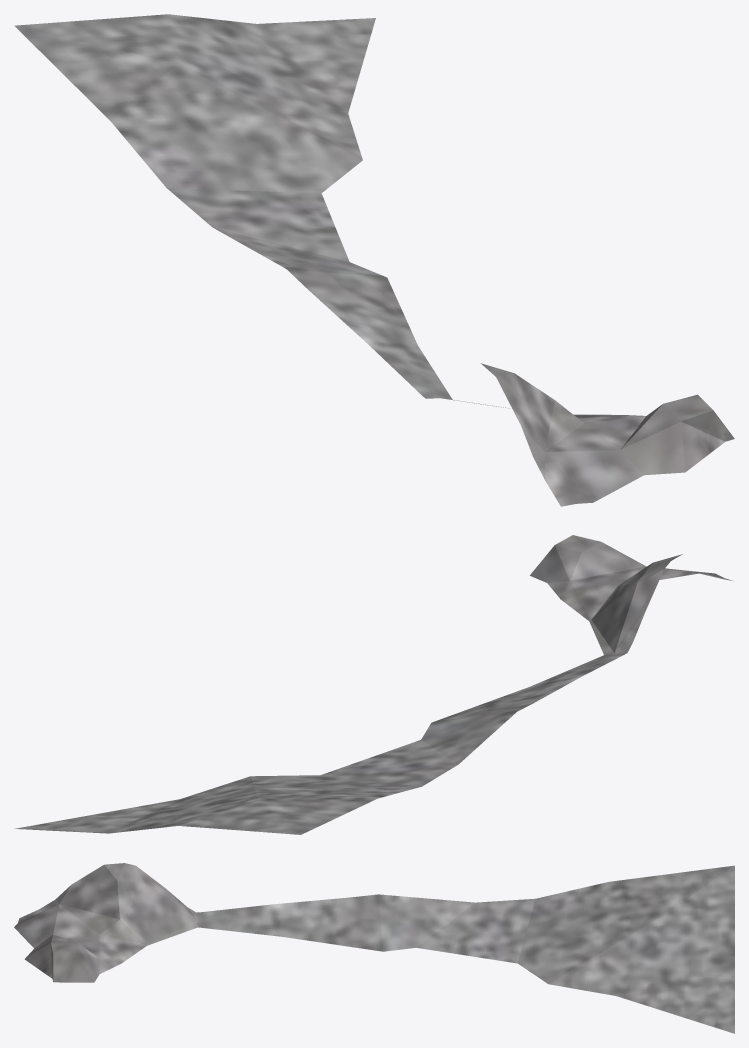
The picture shows the model from 3 angles, top to bottom: view 1: azimuth 30°, elevation 25°; view 2: azimuth 150°, elevation 25°; view 3: azimuth 270°, elevation 25°; orthographic projection. The views are drawn at different scales.
Bounding box in the file's own units: 0.2543 × 0.0568 × 0.6704.
1 material, 1 textured.
